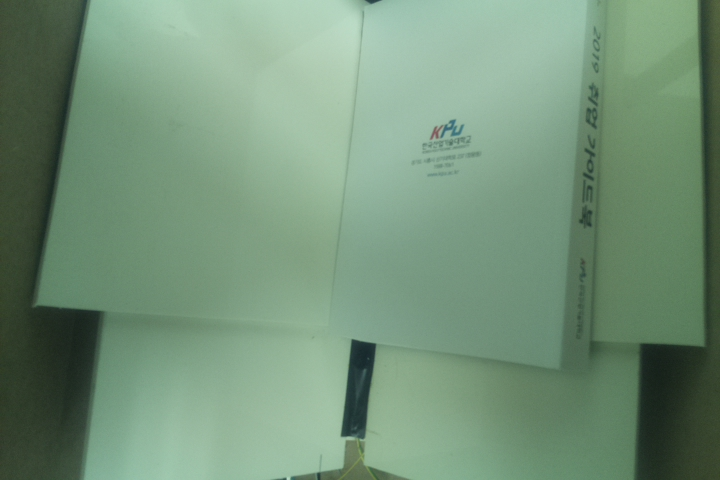book: (328, 1, 614, 375)
